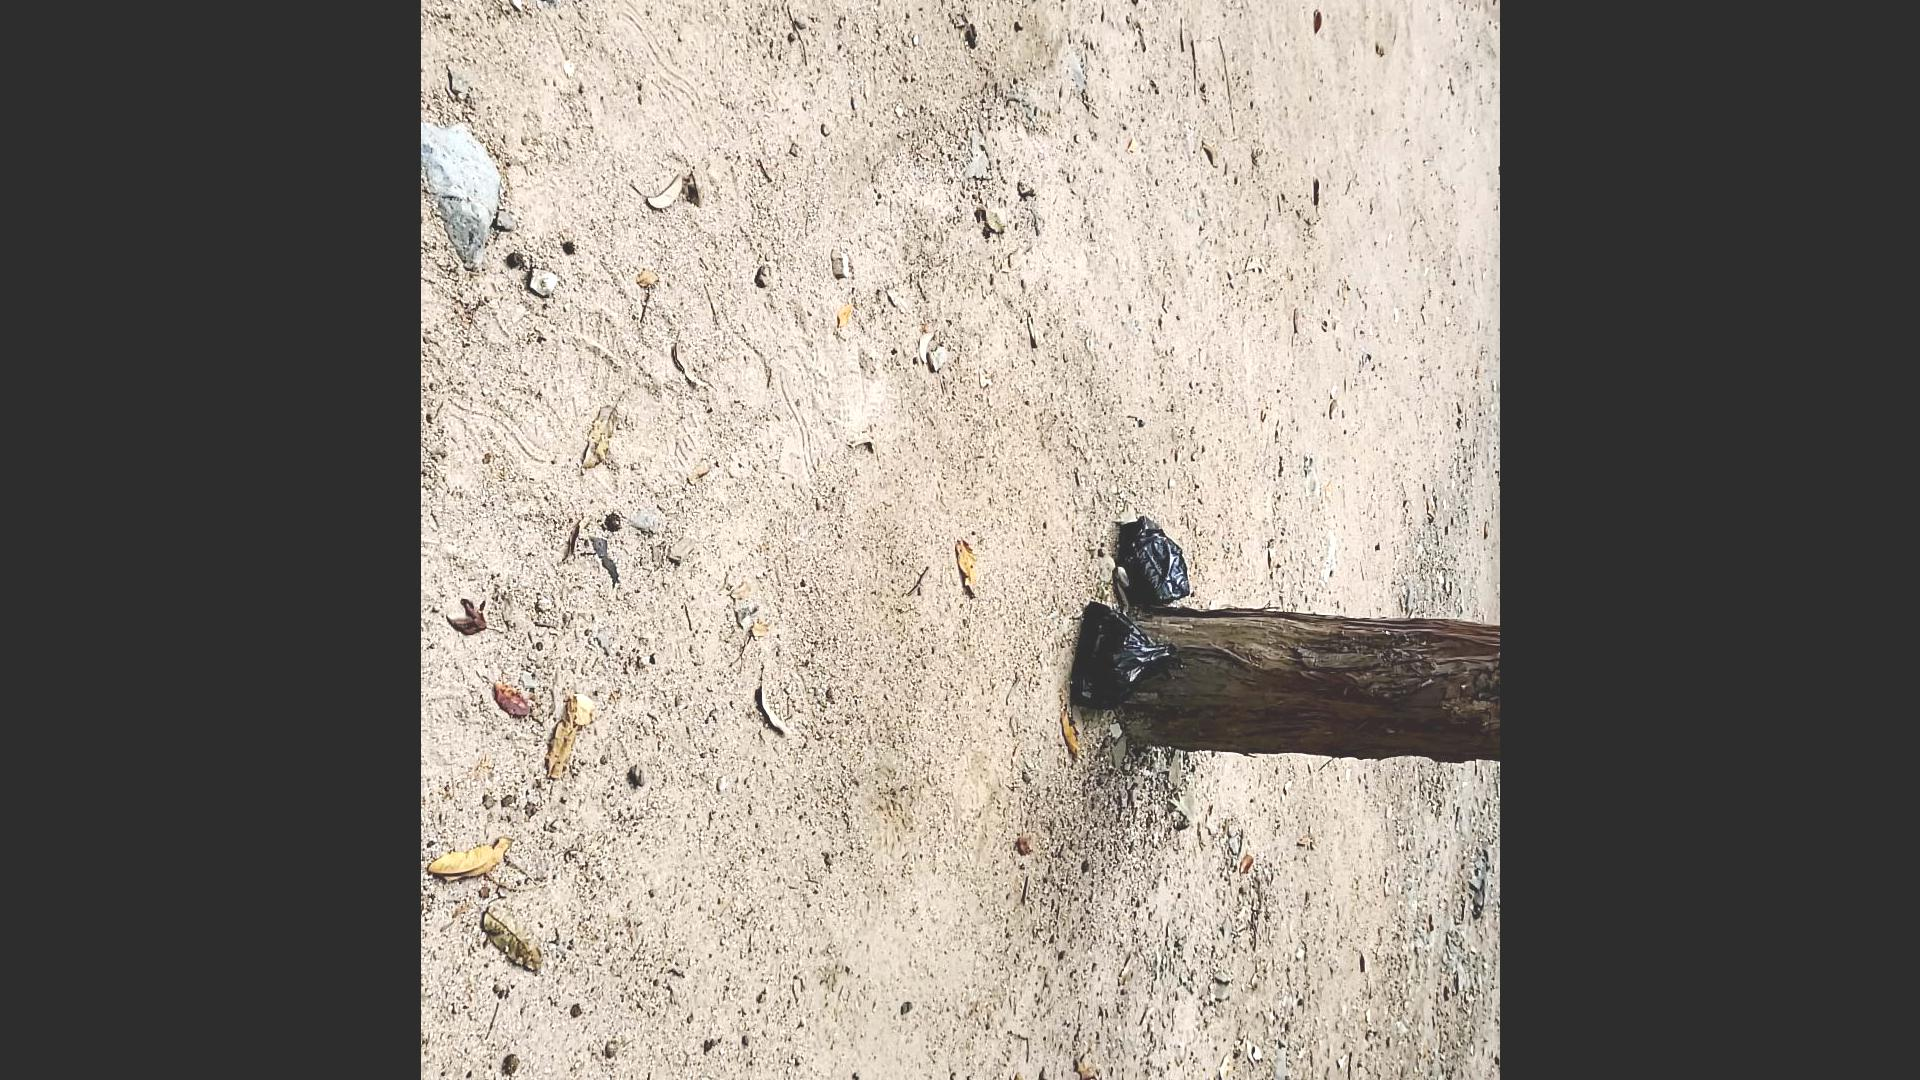white_bag: (1065, 600, 1187, 715), (1114, 512, 1193, 611)
